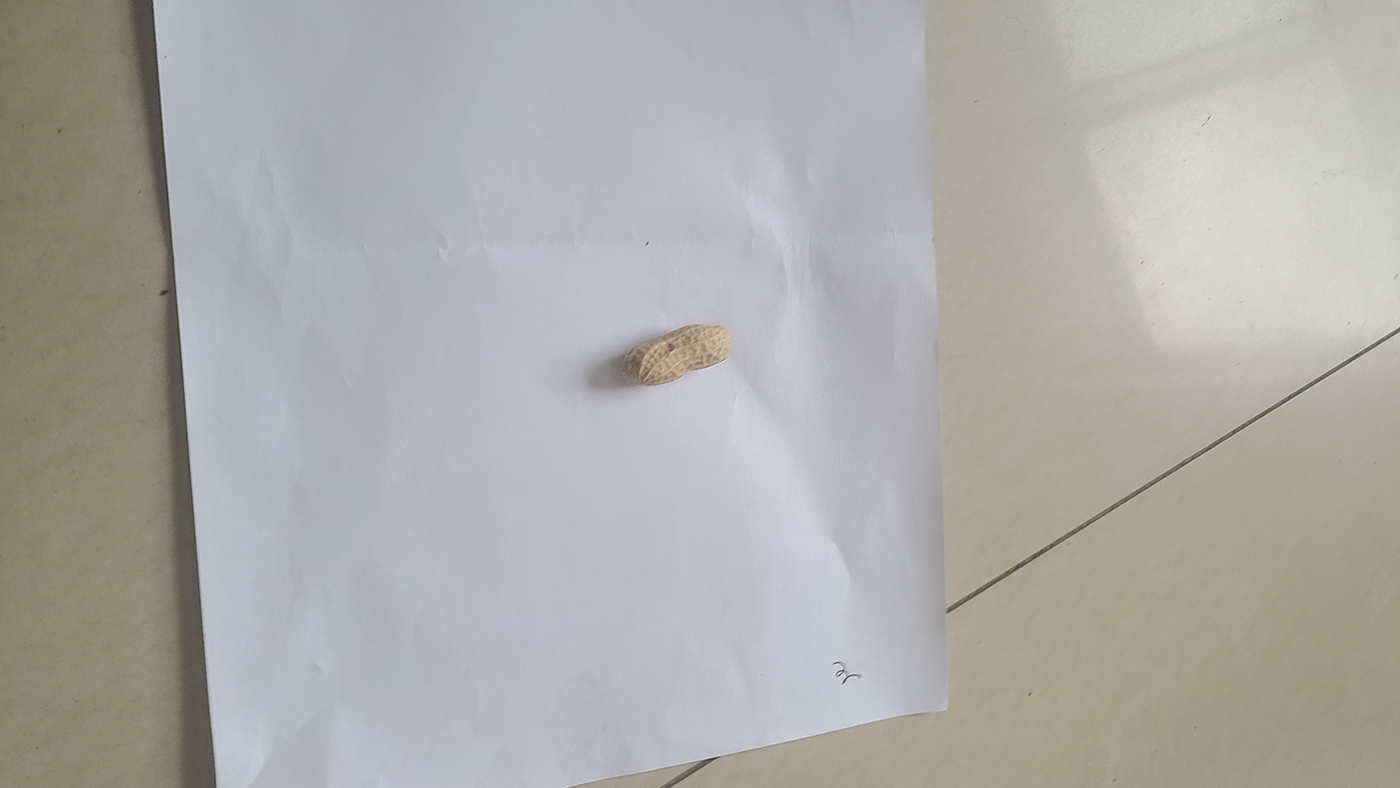h: (624, 323, 735, 387)
